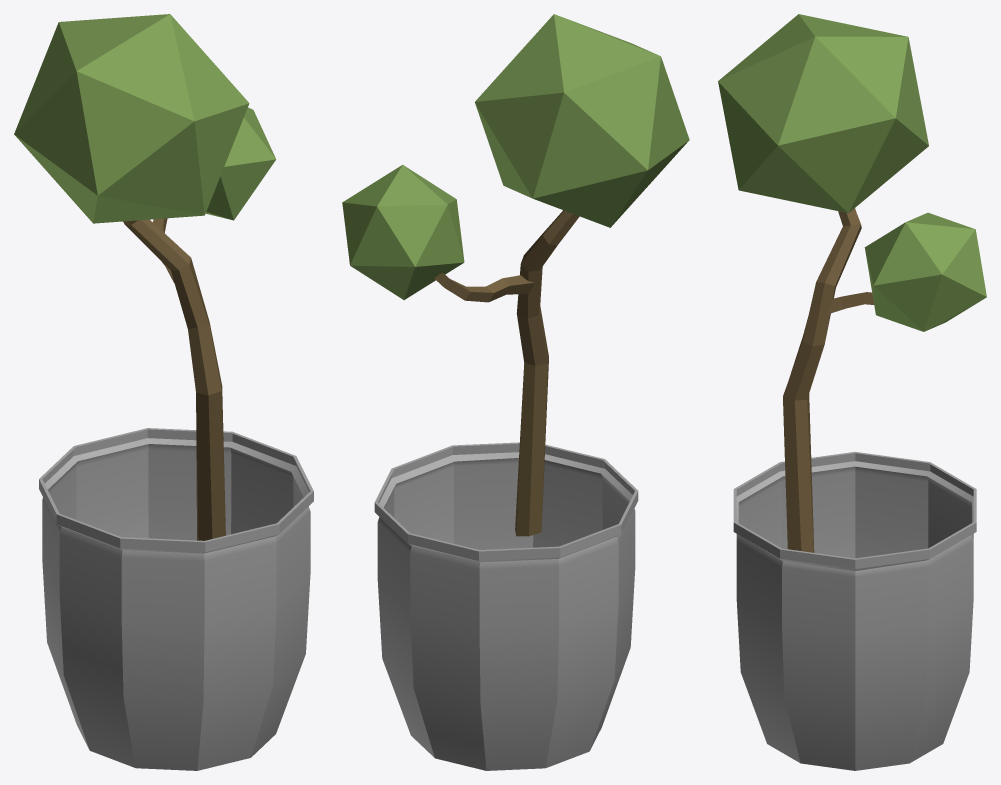
Rendered from Plant2.fbx.
3 views of the same model, side by side, from view 1: azimuth 30°, elevation 25°; view 2: azimuth 150°, elevation 25°; view 3: azimuth 270°, elevation 25° (orthographic). The views are drawn at different scales.
Parts seen in each view (by area): view 1: pCylinder1, Soil:Lowpoly_tree_sample:Default; view 2: pCylinder1, Soil:Lowpoly_tree_sample:Default; view 3: pCylinder1, Soil:Lowpoly_tree_sample:Default.
Boxes of the visible parts, x1=… form: pCylinder1: x1=39, y1=428, x2=313, y2=770; Soil:Lowpoly_tree_sample:Default: x1=14, y1=14, x2=276, y2=540; pCylinder1: x1=374, y1=442, x2=638, y2=770; Soil:Lowpoly_tree_sample:Default: x1=342, y1=14, x2=689, y2=536; pCylinder1: x1=733, y1=452, x2=976, y2=770; Soil:Lowpoly_tree_sample:Default: x1=718, y1=14, x2=986, y2=552.
Bounding box in the file's own units: 10.73 × 27.13 × 9.69.
